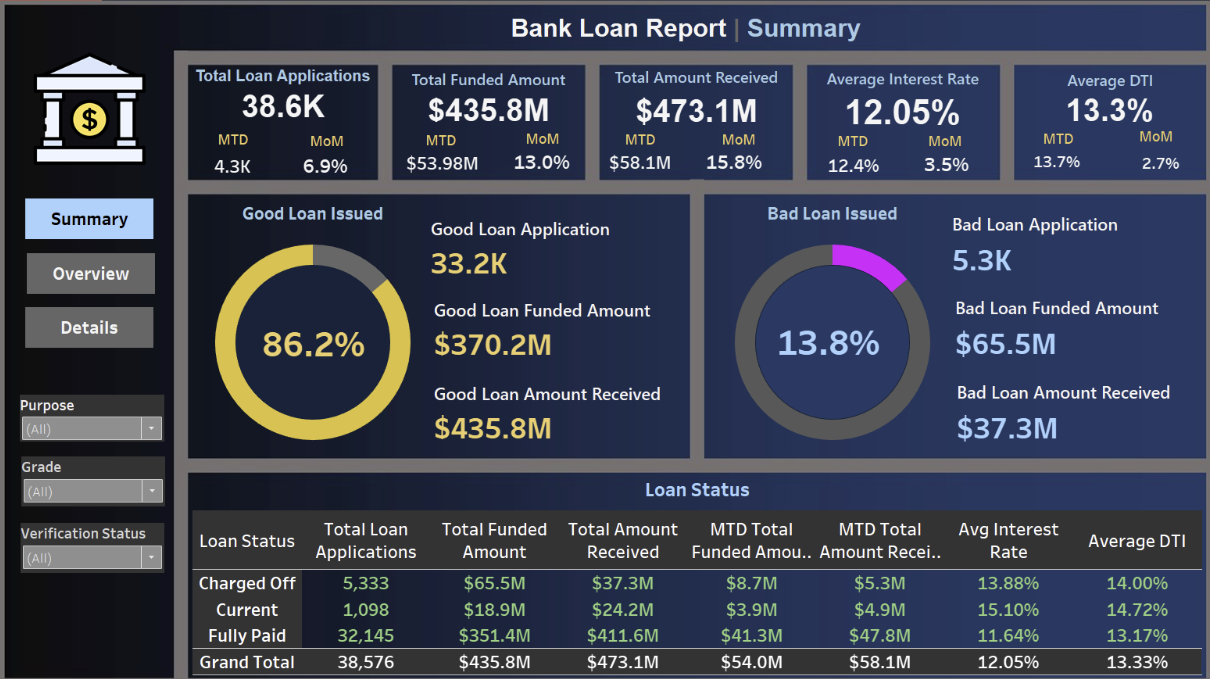

This screenshot's page, from the dashboard's own definition file:
{"tool":"powerbi","page":{"name":"Summary","canvas":[1280,720],"ordinal":0},"visuals":[{"type":"shape","box":[0,0,1280,70],"z":0},{"type":"shape","box":[194.3,80.5,194.3,117.2],"z":0,"group":"g4"},{"type":"shape","box":[408.3,81.1,194.3,117.2],"z":0,"group":"g1"},{"type":"shape","box":[623.8,81.1,194.3,117.2],"z":0,"group":"g2"},{"type":"shape","box":[837.2,81.1,194.3,117.2],"z":0,"group":"g5"},{"type":"shape","box":[1063.8,81.1,194.3,117.2],"z":0,"group":"g3"},{"type":"shape","box":[0,70,185,650],"z":1000},{"type":"cardVisual","fields":{"Data":["Loan Mesures.Total Loan Amount"]},"box":[397.8,89.1,227,79],"z":1000,"group":"g1"},{"type":"cardVisual","fields":{"Data":["Loan Mesures.Total Amount Received"]},"box":[613.3,89.1,227,79],"z":1000,"group":"g2"},{"type":"cardVisual","fields":{"Data":["Loan Mesures.Avg Interest Rate"]},"box":[826.7,89.1,227,79],"z":1000,"group":"g5"},{"type":"cardVisual","fields":{"Data":["Loan Mesures.Avg DTI"]},"box":[1053.3,89.1,227,79],"z":1000,"group":"g3"},{"type":"cardVisual","title":"MoM","fields":{"Data":["Loan Mesures.MoM Loan Applications"]},"box":[304,151,84,46],"z":1000,"group":"g4"},{"type":"textbox","box":[185.7,0,598.6,65.7],"z":2000},{"type":"textbox","box":[397.8,82.4,205,28.8],"z":2000,"group":"g1"},{"type":"textbox","box":[613.3,82.4,205,28.8],"z":2000,"group":"g2"},{"type":"textbox","box":[826.7,82.4,205,28.8],"z":2000,"group":"g5"},{"type":"textbox","box":[1053.3,82.4,205,28.8],"z":2000,"group":"g3"},{"type":"cardVisual","fields":{"Data":["bank_loan_data.Total Loan Applications"]},"box":[195,86.8,193.5,80],"z":2000,"group":"g4"},{"type":"textbox","box":[183.8,81.8,205,28.8],"z":3000,"group":"g4"},{"type":"cardVisual","title":"MTD","fields":{"Data":["Loan Mesures.MTD Founded Amount"]},"box":[408.6,153.6,83.3,45],"z":3000,"group":"g1"},{"type":"cardVisual","title":"MTD","fields":{"Data":["Loan Mesures.MTD Amount Received"]},"box":[624.1,153.6,83.3,45],"z":3000,"group":"g2"},{"type":"cardVisual","title":"MTD","fields":{"Data":["Loan Mesures.MTD Avg Interest Rate"]},"box":[837.5,153.6,83.3,45],"z":3000,"group":"g5"},{"type":"cardVisual","title":"MTD","fields":{"Data":["Loan Mesures.MTD Avg DTI"]},"box":[1064.1,153.6,83.3,45],"z":3000,"group":"g3"},{"type":"shape","box":[196.2,216.2,511.2,246.2],"z":3000},{"type":"textbox","box":[847.1,11.4,291.4,47.1],"z":4000},{"type":"cardVisual","title":"MoM","fields":{"Data":["Loan Mesures.MoM Founded Amount"]},"box":[518.8,152.1,84,46],"z":4000,"group":"g1"},{"type":"cardVisual","title":"MoM","fields":{"Data":["Loan Mesures.MoM Amount Received"]},"box":[734.3,152.1,84,46],"z":4000,"group":"g2"},{"type":"cardVisual","title":"MoM","fields":{"Data":["Loan Mesures.MoM Avg Interest Rate"]},"box":[947.7,152.1,84,46],"z":4000,"group":"g5"},{"type":"cardVisual","title":"MoM","fields":{"Data":["Loan Mesures.MoM Avg DTI"]},"box":[1174.3,152.1,84,46],"z":4000,"group":"g3"},{"type":"cardVisual","title":"MTD","fields":{"Data":["Loan Mesures.MTD Loan Applications"]},"box":[194,152.4,84.2,45.8],"z":4000,"group":"g4"},{"type":"textbox","box":[225,230,205,28.8],"z":5000},{"type":"group","id":"g1","title":"Group 2","box":[397.8,81.1,227,117.5],"z":6000},{"type":"group","id":"g2","title":"Group 2","box":[613.3,81.1,227.8,117.8],"z":7000},{"type":"group","id":"g3","title":"Group 2","box":[1053.3,81.1,226.7,118.9],"z":8000},{"type":"group","id":"g4","title":"Group 1","box":[183.8,80.5,205,117.7],"z":9000},{"type":"group","id":"g5","title":"Group 2","box":[826.7,81.1,226.7,118.9],"z":10000},{"type":"shape","box":[728.8,216.2,528.8,246.2],"z":11000},{"type":"donutChart","fields":{"Category":["bank_loan_data.good vs bad loan"],"Y":["Loan Mesures.Total Loan Applications"]},"box":[202.5,250,250,220],"z":12000},{"type":"cardVisual","fields":{"Data":["Loan Mesures.Good Loan %"]},"box":[236.2,315,193.8,80],"z":13000},{"type":"cardVisual","fields":{"Data":["Loan Mesures.Good Loan Total Applications","Loan Mesures.Good Loan Amount Received","Loan Mesures.Good Loan Founded Amount"]},"box":[430,230,276.2,240],"z":14000},{"type":"textbox","box":[744.3,232.6,205,28.8],"z":15000},{"type":"donutChart","fields":{"Category":["bank_loan_data.good vs bad loan"],"Y":["Loan Mesures.Total Loan Applications"]},"box":[721.2,247.5,250,220],"z":16000},{"type":"cardVisual","fields":{"Data":["Loan Mesures.Bad Loan Total Applications","Loan Mesures.Bad Loan Founded Amount","Loan Mesures.Bad Loan Amount Received"]},"box":[960,222.7,276.2,240],"z":17000},{"type":"cardVisual","fields":{"Data":["Loan Mesures.Bad Loan %"]},"box":[743.8,315,193.8,80],"z":18000},{"type":"shape","box":[203.8,470,1052.5,238.8],"z":19000},{"type":"tableEx","fields":{"Values":["bank_loan_data.loan_status","Loan Mesures.Total Loan Applications","Loan Mesures.Total Loan Founded Amount","Loan Mesures.Total Amount Received","Loan Mesures.MTD Founded Amount","Loan Mesures.MTD Amount Received","Loan Mesures.Avg Interest Rate","Loan Mesures.Avg DTI"]},"box":[213.8,500,1032.5,207.5],"z":20000},{"type":"textbox","box":[196.2,471.2,205,28.8],"z":21000},{"type":"slicer","fields":{"Values":["bank_loan_data.address_state"]},"box":[7.1,404.3,167.1,57.1],"z":22000},{"type":"textbox","box":[7.1,368.6,185.7,35.7],"z":23000},{"type":"slicer","fields":{"Values":["bank_loan_data.grade"]},"box":[10.5,513.3,167.1,57.1],"z":24000},{"type":"textbox","box":[10.5,477.6,185.7,35.7],"z":25000},{"type":"slicer","fields":{"Values":["bank_loan_data.purpose"]},"box":[9.5,626.7,167.1,57.1],"z":26000},{"type":"textbox","box":[9.5,591,185.7,35.7],"z":27000},{"type":"cardVisual","fields":{"Data":["Loan Mesures.Total Earned Amount"]},"box":[1098.6,0,171.4,61.4],"z":28000},{"type":"pageNavigator","box":[7.1,121.4,167.1,175.7],"z":29000}]}

Visuals, with their boxes in screenshot pixels (x1, y1, x2, y2), scaled from the page's 1280x720 canvas onto the 1210x679 screenshot:
shape: region(0, 0, 1209, 66)
shape: region(184, 76, 367, 186)
shape: region(386, 76, 570, 187)
shape: region(590, 76, 773, 187)
shape: region(791, 76, 975, 187)
shape: region(1006, 76, 1189, 187)
shape: region(0, 66, 175, 678)
cardVisual - Loan Mesures.Total Loan Amount: region(376, 84, 591, 159)
cardVisual - Loan Mesures.Total Amount Received: region(580, 84, 794, 159)
cardVisual - Loan Mesures.Avg Interest Rate: region(781, 84, 996, 159)
cardVisual - Loan Mesures.Avg DTI: region(996, 84, 1209, 159)
"MoM" cardVisual: region(287, 142, 367, 186)
textbox: region(176, 0, 741, 62)
textbox: region(376, 78, 570, 105)
textbox: region(580, 78, 774, 105)
textbox: region(781, 78, 975, 105)
textbox: region(996, 78, 1189, 105)
cardVisual - bank_loan_data.Total Loan Applications: region(184, 82, 367, 157)
textbox: region(174, 77, 368, 104)
"MTD" cardVisual: region(386, 145, 465, 187)
"MTD" cardVisual: region(590, 145, 669, 187)
"MTD" cardVisual: region(792, 145, 870, 187)
"MTD" cardVisual: region(1006, 145, 1085, 187)
shape: region(185, 204, 669, 436)
textbox: region(801, 11, 1076, 55)
"MoM" cardVisual: region(490, 143, 570, 187)
"MoM" cardVisual: region(694, 143, 774, 187)
"MoM" cardVisual: region(896, 143, 975, 187)
"MoM" cardVisual: region(1110, 143, 1189, 187)
"MTD" cardVisual: region(183, 144, 263, 187)
textbox: region(213, 217, 406, 244)
"Group 2" group: region(376, 76, 591, 187)
"Group 2" group: region(580, 76, 795, 188)
"Group 2" group: region(996, 76, 1209, 189)
"Group 1" group: region(174, 76, 368, 187)
"Group 2" group: region(781, 76, 996, 189)
shape: region(689, 204, 1189, 436)
donutChart - bank_loan_data.good vs bad loan x Loan Mesures.Total Loan Applications: region(191, 236, 428, 443)
cardVisual - Loan Mesures.Good Loan %: region(223, 297, 406, 373)
cardVisual - Loan Mesures.Good Loan Total Applications x Loan Mesures.Good Loan Amount Received: region(406, 217, 668, 443)
textbox: region(704, 219, 897, 247)
donutChart - bank_loan_data.good vs bad loan x Loan Mesures.Total Loan Applications: region(682, 233, 918, 441)
cardVisual - Loan Mesures.Bad Loan Total Applications x Loan Mesures.Bad Loan Founded Amount: region(908, 210, 1169, 436)
cardVisual - Loan Mesures.Bad Loan %: region(703, 297, 886, 373)
shape: region(193, 443, 1188, 668)
tableEx - bank_loan_data.loan_status x Loan Mesures.Total Loan Applications: region(202, 472, 1178, 667)
textbox: region(185, 444, 379, 472)
slicer - bank_loan_data.address_state: region(7, 381, 165, 435)
textbox: region(7, 348, 182, 381)
slicer - bank_loan_data.grade: region(10, 484, 168, 538)
textbox: region(10, 450, 185, 484)
slicer - bank_loan_data.purpose: region(9, 591, 167, 645)
textbox: region(9, 557, 185, 591)
cardVisual - Loan Mesures.Total Earned Amount: region(1039, 0, 1201, 58)
pageNavigator: region(7, 114, 165, 280)
